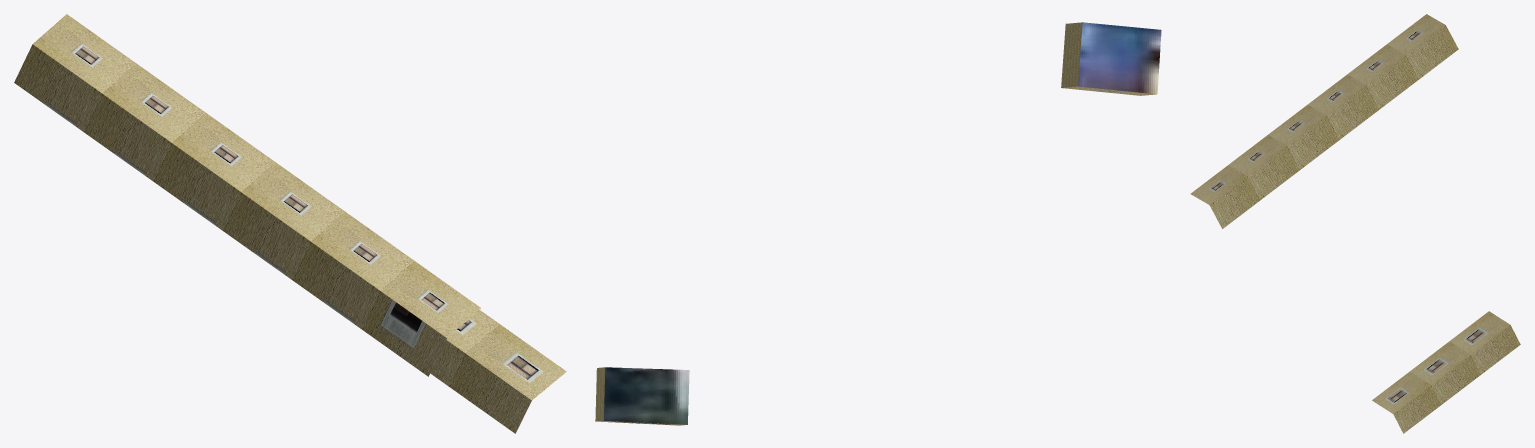
The picture shows the model from 3 angles, left to right: view 1: azimuth 30°, elevation 25°; view 2: azimuth 150°, elevation 25°; view 3: azimuth 270°, elevation 25°; orthographic projection. The views are drawn at different scales.
Size of the model in its own units: 23.36 by 20.73 by 22.04.
Materials: 8 (8 with a texture image).
